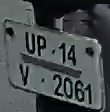0: (63, 76, 75, 100)
1: (56, 39, 67, 66), (84, 82, 95, 108)
2: (51, 72, 65, 99)
4: (67, 43, 80, 67)
6: (72, 77, 86, 106)
P: (35, 34, 49, 57)
U: (24, 30, 37, 57)
V: (17, 62, 32, 88)
